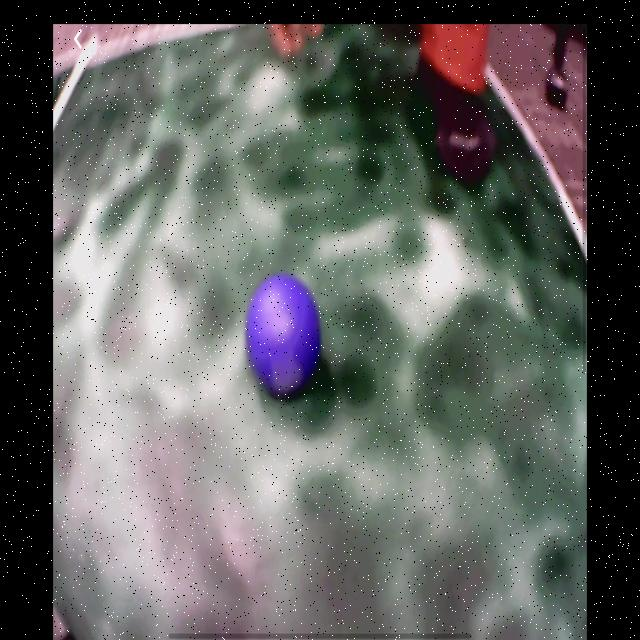ball: (248, 273, 324, 394)
